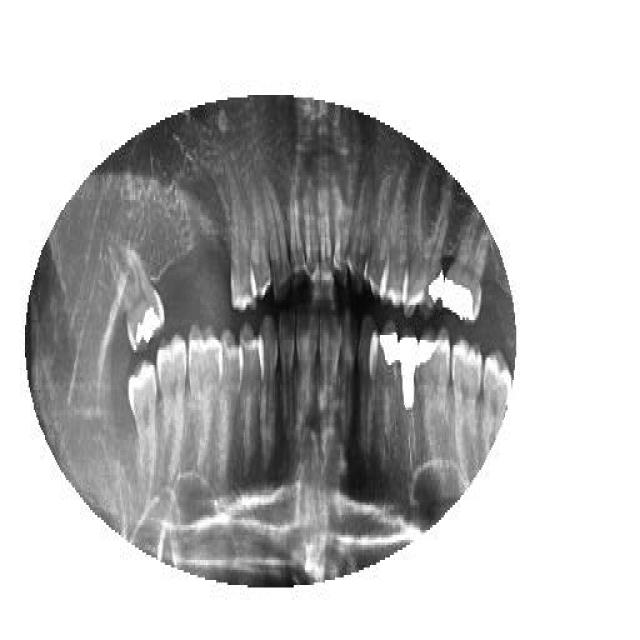Fillings: (402, 170, 450, 320), (108, 235, 164, 353), (444, 210, 490, 325), (418, 333, 448, 465), (379, 325, 400, 453)
Implant: (399, 338, 419, 472)
